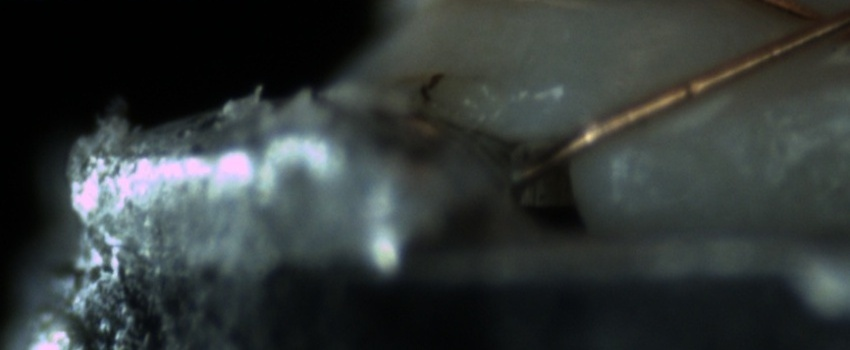CL: (772, 2, 850, 55)
